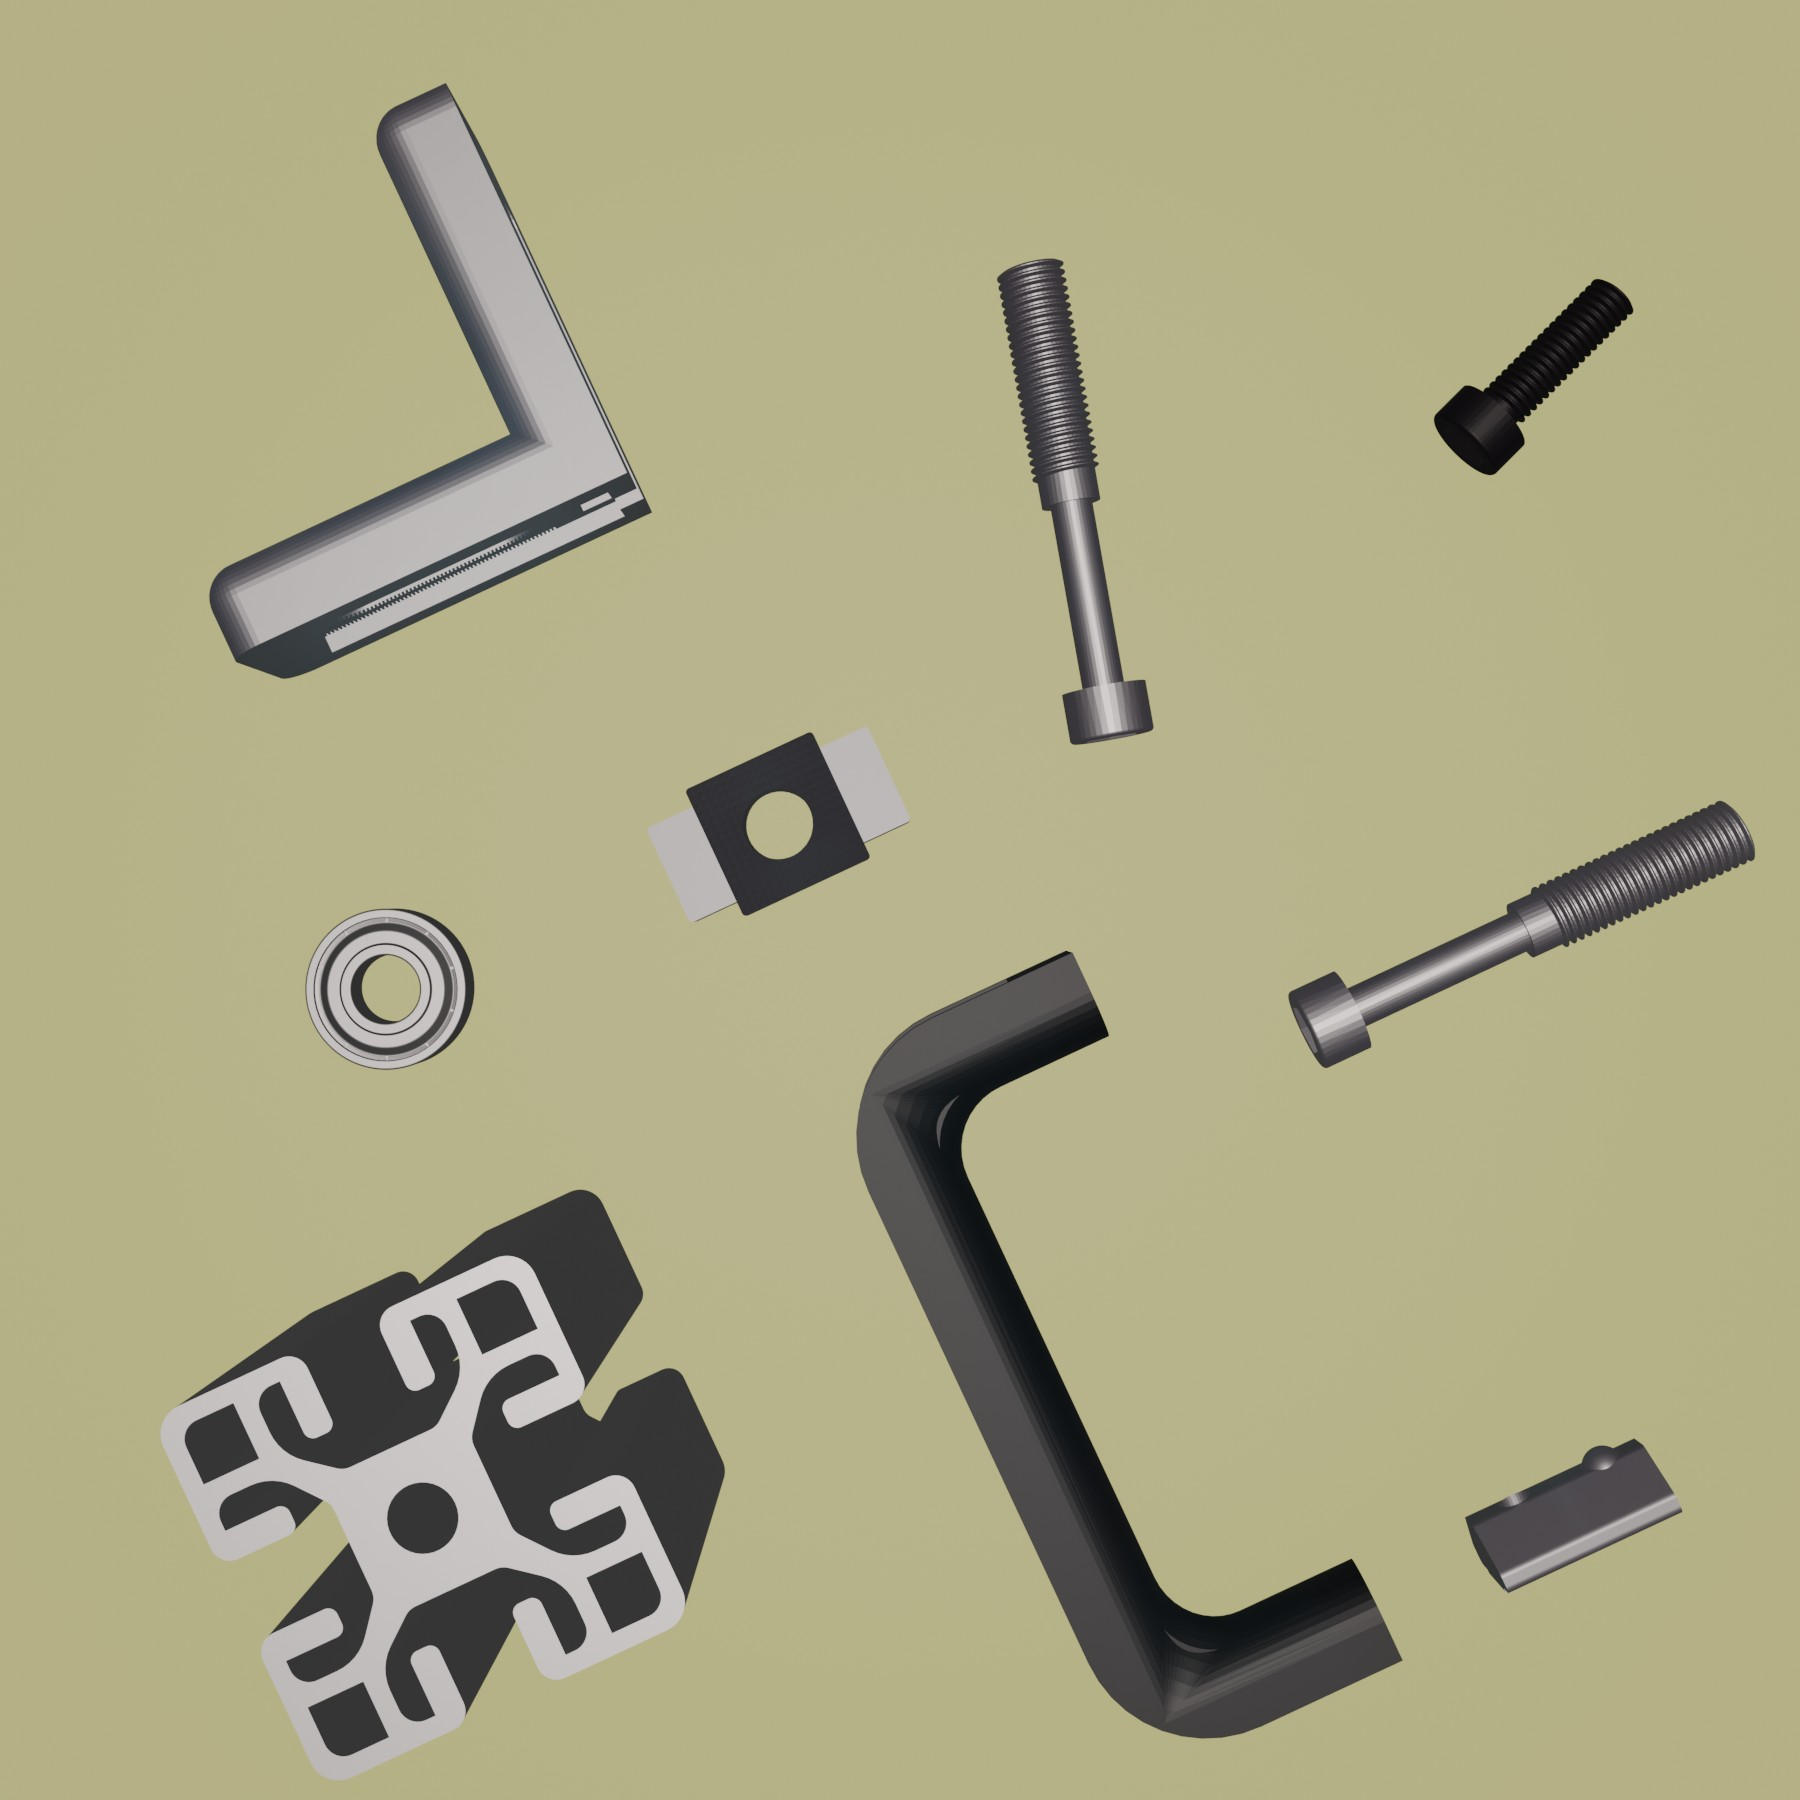Aluminium Extension: (158, 1185, 727, 1785)
Ball Bearing: (302, 905, 478, 1073)
Multiwinkel: (208, 81, 654, 681)
Pull Handle: (852, 945, 1404, 1741)
Shoulder Socket Head Cap Screw: (1286, 796, 1760, 1071), (994, 255, 1155, 748)
Socket Head Cap Screw: (1431, 274, 1637, 478)
T Nut Square: (641, 724, 912, 928)
T Spring Nut: (1460, 1436, 1686, 1596)
